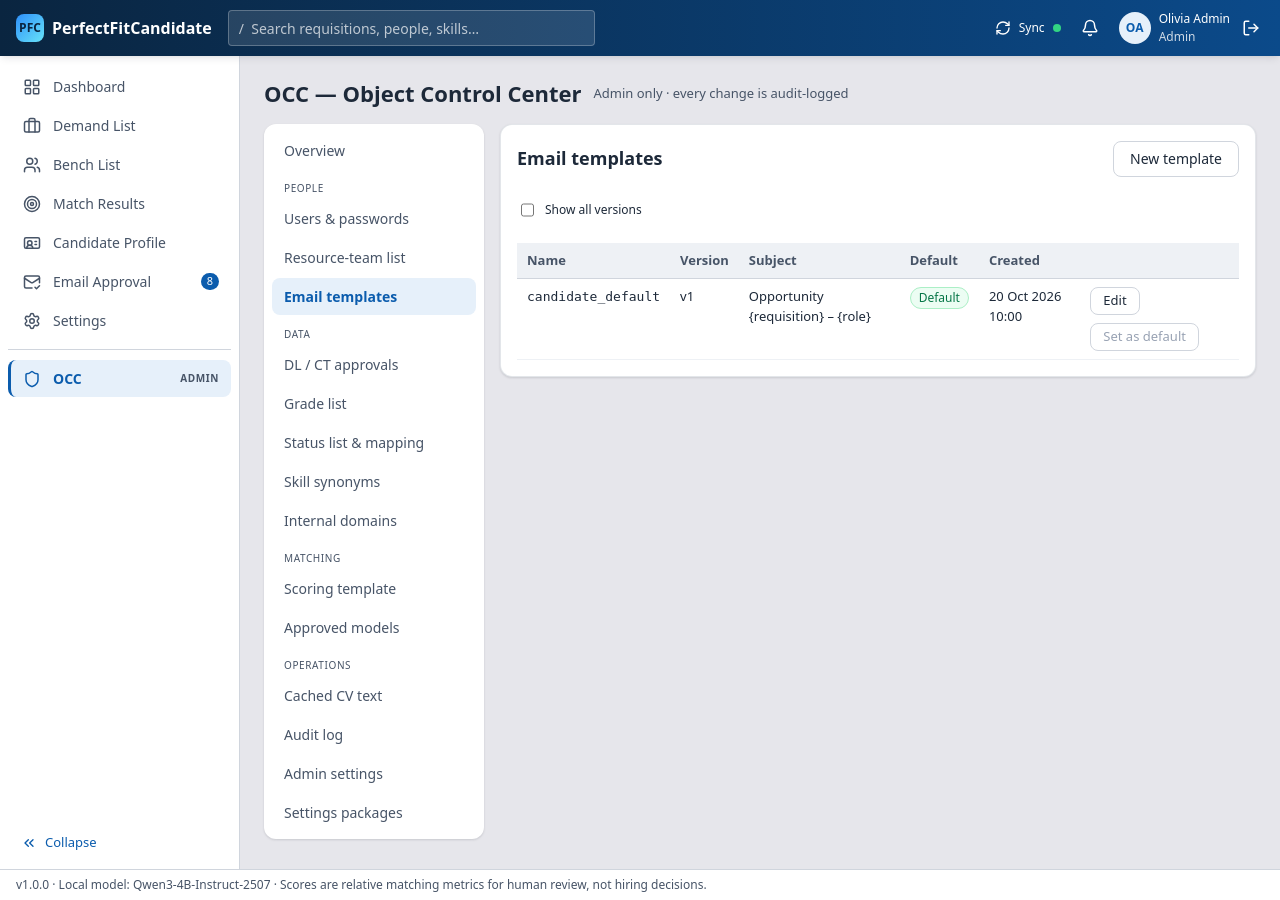
OCC email templates — screen › blocks a new template that reuses an existing name
Step 1. Click the button "New template" → [1176, 158], box left=1113, top=140, right=1239, bottom=176
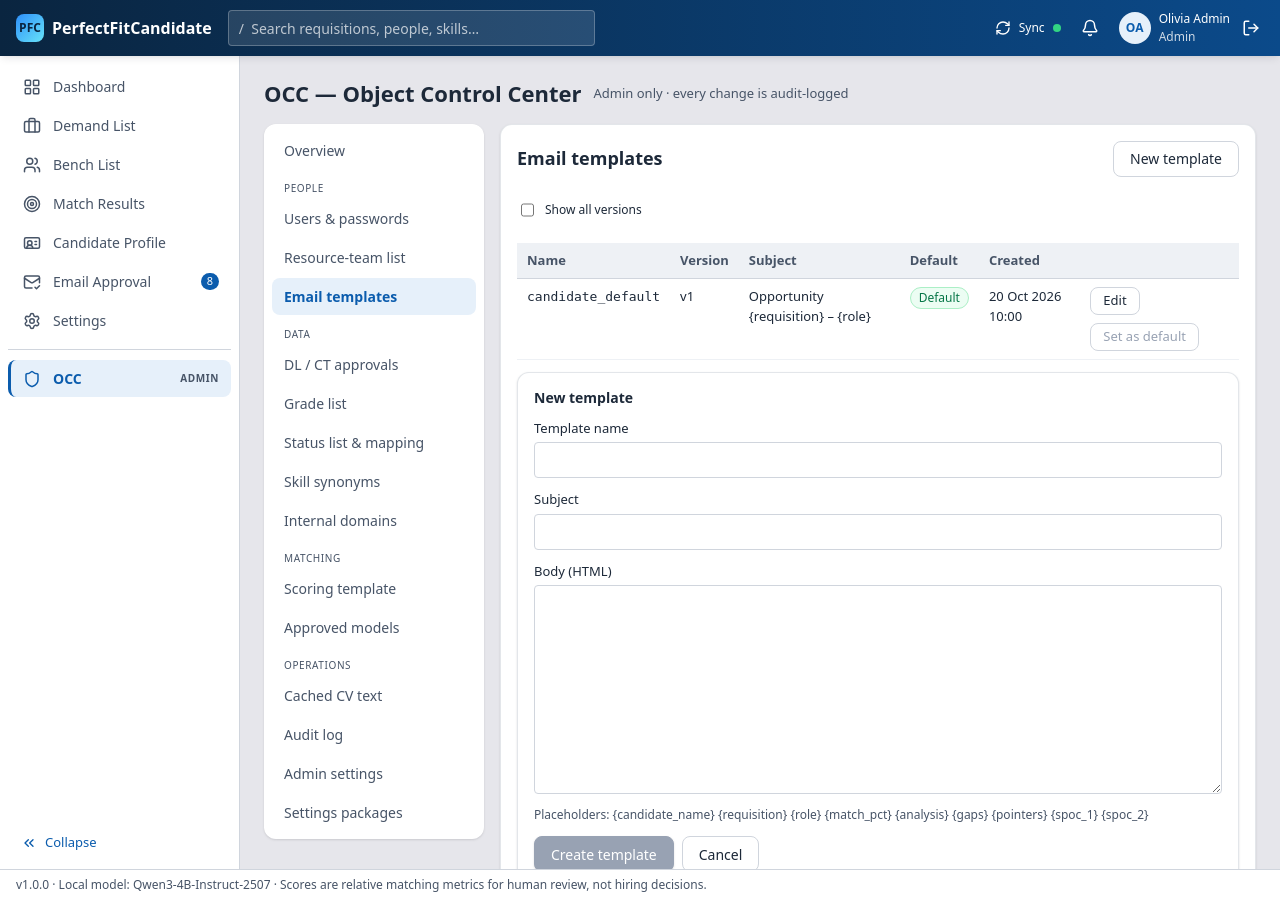
Step 2. Type "candidate_default" into the field labelled "Template name" → [878, 460], box left=534, top=442, right=1222, bottom=478
(page scrolled)
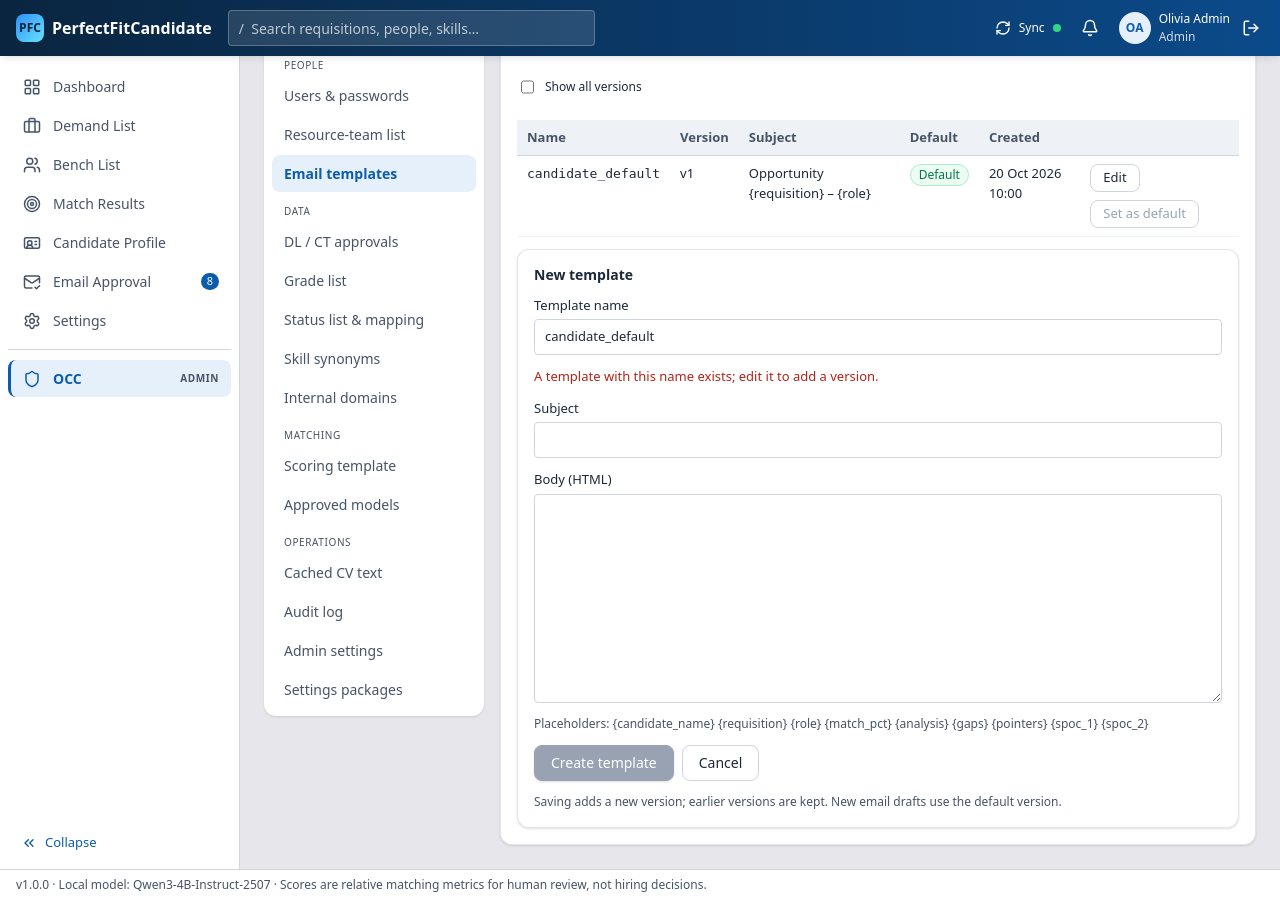
Expected: the button "Create template" is disabled, left=534, top=744, right=674, bottom=780
Expected: the text "A template with this name exists; edit it to add a version." is shown, left=534, top=367, right=878, bottom=385
